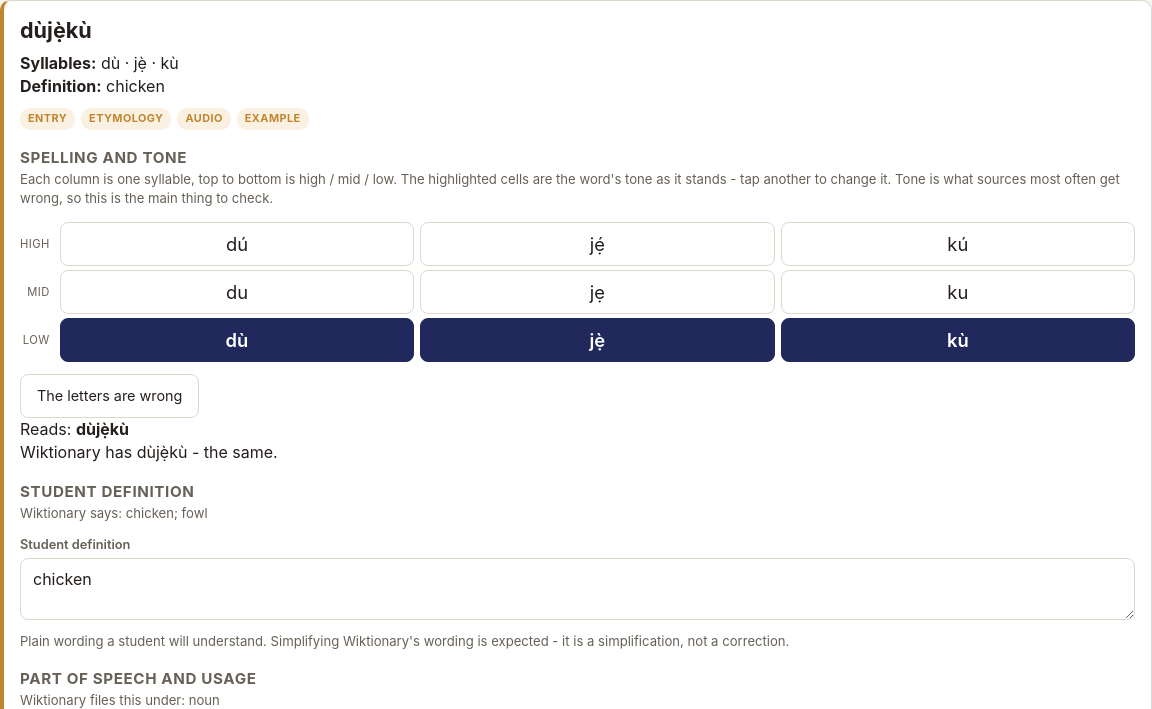
the tone row is an EDITOR, not a Yes button › keeps a label on a syllable that cannot carry tone at all, so the row stays identifiable
Expected: the element named "Tone editor" is shown, [20,170,1135,418]
Click the button "The letters are wrong" at (110, 396), box [20,374,200,418]
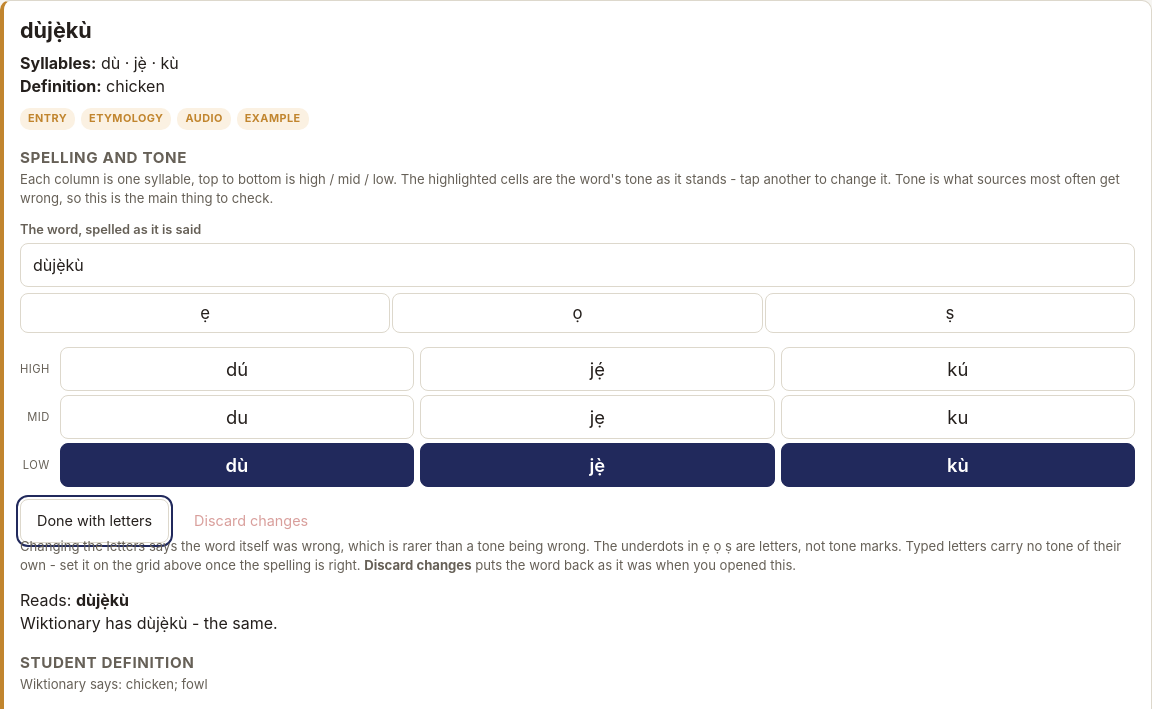
Replace the text in the field labelled "The word, spelled as it is said" with "gb" at (578, 265), box [20,243,1135,287]
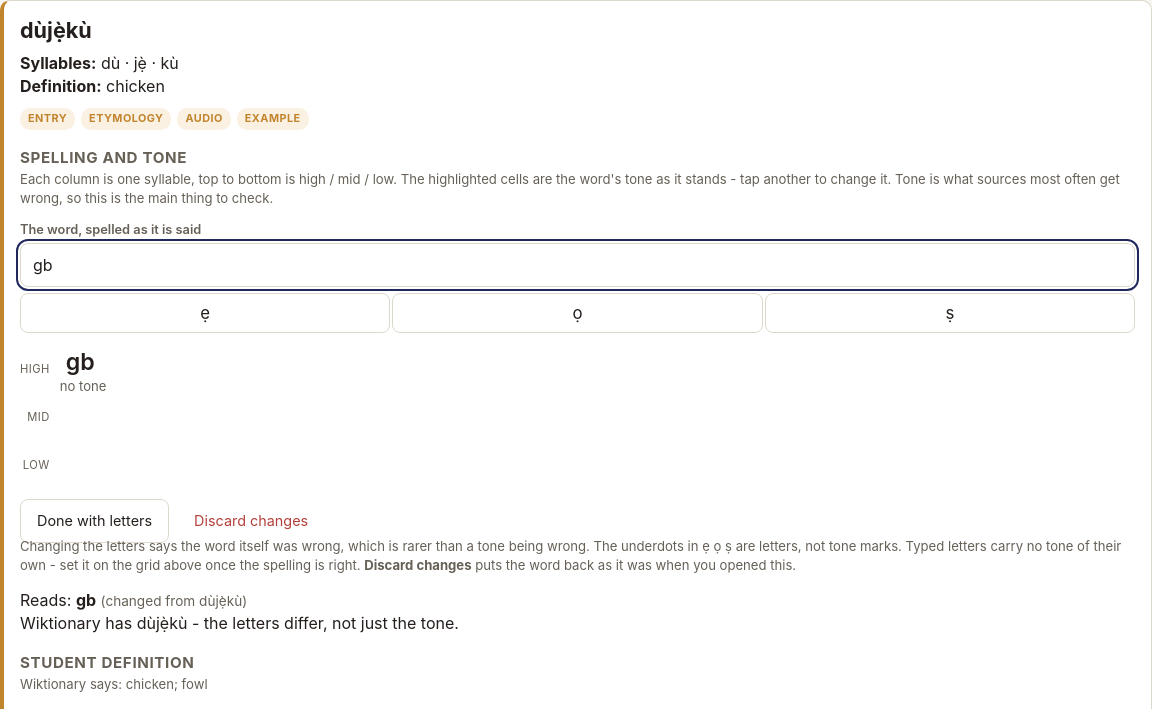
Now the text named "Syllable 1" reads "gb", box [66,348,95,376]
